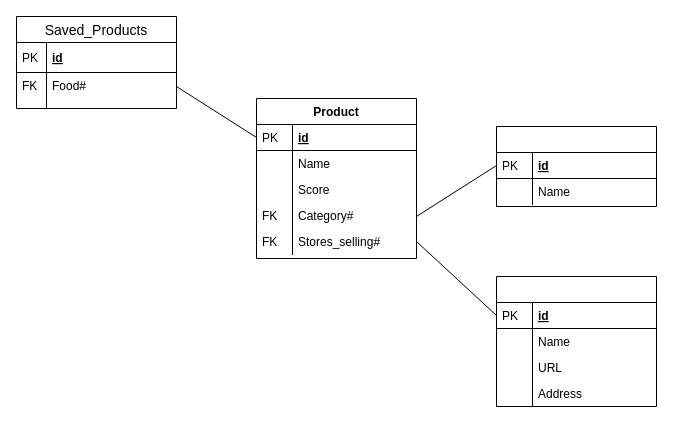
This 673x423 diagram has some shape labels left out. The shapes that lost their labels are listed below. From the top down, each one's box as (x1, y1, x2, y2) in pixels, then its label:
(496, 126, 656, 206): Categories
(496, 276, 656, 406): Stores
